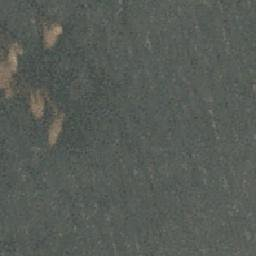debris: (1, 42, 20, 98), (47, 115, 63, 147), (44, 22, 62, 50), (30, 93, 44, 120)
